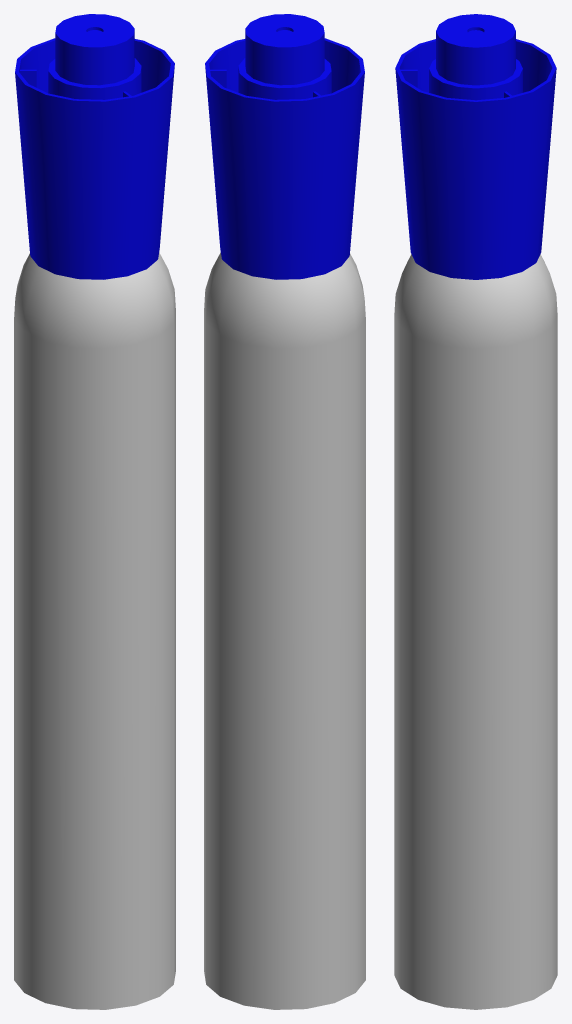
The picture shows the model from 3 angles, left to right: view 1: azimuth 30°, elevation 25°; view 2: azimuth 150°, elevation 25°; view 3: azimuth 270°, elevation 25°; orthographic projection.
Visible parts, largest first — view 1: marker, marker marker_cap; view 2: marker, marker marker_cap; view 3: marker, marker marker_cap.
Boxes of the visible parts, x1=… form: marker: x1=14, y1=252, x2=175, y2=1009; marker marker_cap: x1=15, y1=14, x2=174, y2=279; marker: x1=204, y1=252, x2=365, y2=1009; marker marker_cap: x1=205, y1=14, x2=364, y2=279; marker: x1=394, y1=254, x2=557, y2=1009; marker marker_cap: x1=395, y1=14, x2=556, y2=279.
Size of the model in its own units: 0.0185 by 0.1182 by 0.0185.
